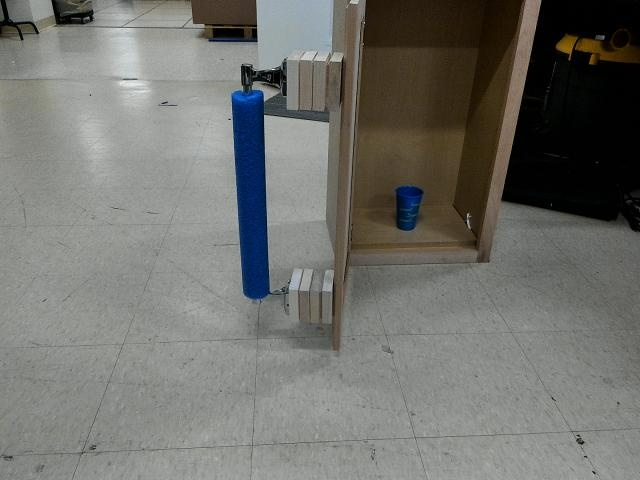noodle_handle: (227, 79, 274, 299)
water_cup: (389, 181, 426, 234)
